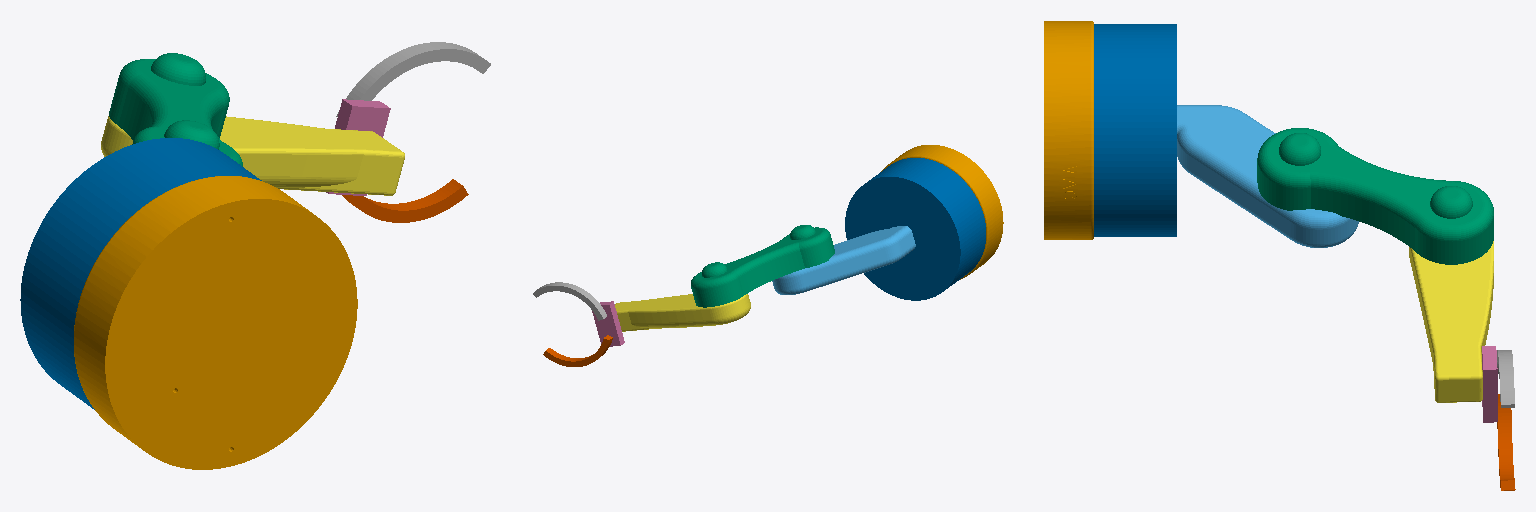
The robot description file, URDF, robot "assemblyrobot":
<?xml version='1.0' encoding='utf-8'?>
<robot name="assemblyrobot">
    <link name="arduino-base">
        <inertial>
            <origin xyz="-5.908176095655564e-05 0.012600108338098034 1.725580498494947e-05" rpy="0.0 0.0 0.0" />
            <mass value="1.7495577812065652" />
            <inertia ixx="0.0039417183917980474" iyy="0.007486009690572093" izz="0.003957126497272616" ixy="4.140320170639071e-07" iyz="1.8222252268676652e-07" ixz="-1.1160722562068011e-06" />
        </inertial>
        <visual name="arduino-base_visual">
            <origin xyz="0.0 0.0 0.0" rpy="0.0 0.0 0.0" />
            <geometry>
                <mesh filename="meshes/arduino-base.stl" scale="0.001 0.001 0.001" />
            </geometry>
        </visual>
        <collision name="arduino-base_collision">
            <origin xyz="0.0 0.0 0.0" rpy="0.0 0.0 0.0" />
            <geometry>
                <mesh filename="meshes/arduino-base.stl" scale="0.001 0.001 0.001" />
            </geometry>
        </collision>
    </link>
    <link name="arm-2">
        <inertial>
            <origin xyz="0.045133587515917305 0.013747053811035208 0.06280542759050099" rpy="0.0 -0.0 0.0" />
            <mass value="1.8987166737101113" />
            <inertia ixx="0.0023033943445161104" iyy="0.0038036079862399375" izz="0.002076290476983168" ixy="-0.0005036707288676463" iyz="-0.0004484869326471805" ixz="-0.0014724481701302115" />
        </inertial>
        <visual name="arm-2_visual">
            <origin xyz="7.490552671322721e-12 1.4882293410580383e-10 -0.10499999999999998" rpy="1.5707963267948937 2.6302735272498705e-15 1.5205098357985822" />
            <geometry>
                <mesh filename="meshes/arm-2.stl" scale="0.001 0.001 0.001" />
            </geometry>
        </visual>
        <collision name="arm-2_collision">
            <origin xyz="7.490552671322721e-12 1.4882293410580383e-10 -0.10499999999999998" rpy="1.5707963267948937 2.6302735272498705e-15 1.5205098357985822" />
            <geometry>
                <mesh filename="meshes/arm-2.stl" scale="0.001 0.001 0.001" />
            </geometry>
        </collision>
    </link>
    <link name="link1">
        <inertial>
            <origin xyz="-0.015062367690629089 -0.05281574228373373 -0.02688632089139279" rpy="-1.6543612251060553e-24 5.551115123125783e-17 -6.617444900424222e-24" />
            <mass value="1.892393536013539" />
            <inertia ixx="0.005713109719530485" iyy="0.0015877411130157991" izz="0.0044531045083366074" ixy="-0.00011387660998000642" iyz="-0.0020553273675931057" ixz="-6.904039229656939e-05" />
        </inertial>
        <visual name="link1_visual">
            <origin xyz="0.04269795795658359 -0.020487590816886902 0.19186157078759858" rpy="-1.76389072849859 0.12238603032276264 0.3397011941680077" />
            <geometry>
                <mesh filename="meshes/link1.stl" scale="0.001 0.001 0.001" />
            </geometry>
        </visual>
        <collision name="link1_collision">
            <origin xyz="0.04269795795658359 -0.020487590816886902 0.19186157078759858" rpy="-1.76389072849859 0.12238603032276264 0.3397011941680077" />
            <geometry>
                <mesh filename="meshes/link1.stl" scale="0.001 0.001 0.001" />
            </geometry>
        </collision>
    </link>
    <link name="link2">
        <inertial>
            <origin xyz="0.01929866194100615 0.0024847349070673277 0.05280460015744328" rpy="0.0 -0.0 -1.5407439555097883e-33" />
            <mass value="1.574222345529243" />
            <inertia ixx="0.004004340198137724" iyy="0.003795991909373817" izz="0.00038965016051672975" ixy="5.034014142131925e-06" iyz="-0.00012512596047734216" ixz="0.00015032647625804938" />
        </inertial>
        <visual name="link2_visual">
            <origin xyz="0.03495575394238399 1.020422111253083e-09 0.0017592814441363203" rpy="-2.5208825026752644 -1.5089653423310556 2.5199772747342872" />
            <geometry>
                <mesh filename="meshes/link2.stl" scale="0.001 0.001 0.001" />
            </geometry>
        </visual>
        <collision name="link2_collision">
            <origin xyz="0.03495575394238399 1.020422111253083e-09 0.0017592814441363203" rpy="-2.5208825026752644 -1.5089653423310556 2.5199772747342872" />
            <geometry>
                <mesh filename="meshes/link2.stl" scale="0.001 0.001 0.001" />
            </geometry>
        </collision>
    </link>
    <link name="Component47">
        <inertial>
            <origin xyz="1.740676331585357e-17 7.11823707445522e-33 0.030000000000000044" rpy="0.0 -0.0 0.0" />
            <mass value="8.323257036604458" />
            <inertia ixx="0.014201557318705767" iyy="0.014201557318706516" izz="0.02340916041544966" ixy="-8.656316956781306e-18" iyz="7.051171440193881e-18" ixz="6.547911532059208e-17" />
        </inertial>
        <visual name="Component47_visual">
            <origin xyz="-2.6645352591003756e-17 0.0 6.217248937900877e-17" rpy="1.570796326794897 -1.7208456881689952e-15 0.0" />
            <geometry>
                <mesh filename="meshes/Component47.stl" scale="0.001 0.001 0.001" />
            </geometry>
        </visual>
        <collision name="Component47_collision">
            <origin xyz="-2.6645352591003756e-17 0.0 6.217248937900877e-17" rpy="1.570796326794897 -1.7208456881689952e-15 0.0" />
            <geometry>
                <mesh filename="meshes/Component47.stl" scale="0.001 0.001 0.001" />
            </geometry>
        </collision>
    </link>
    <link name="GRIP1">
        <inertial>
            <origin xyz="0.03238696951852166 0.026111590297341003 0.011291691799990247" rpy="0.0 -0.0 0.0" />
            <mass value="0.05544632258846031" />
            <inertia ixx="9.111720971360752e-06" iyy="3.388992109230535e-05" izz="4.187004161008024e-05" ixy="-1.3509250468996328e-05" iyz="-7.013677073715826e-07" ixz="-1.461657824731663e-06" />
        </inertial>
        <visual name="GRIP1_visual">
            <origin xyz="0.0027145033433928134 -0.004255325966992168 0.005052093371296564" rpy="1.566880919443248 -0.035778539477757075 0.4046835680667616" />
            <geometry>
                <mesh filename="meshes/GRIP1.stl" scale="0.001 0.001 0.001" />
            </geometry>
        </visual>
        <collision name="GRIP1_collision">
            <origin xyz="0.0027145033433928134 -0.004255325966992168 0.005052093371296564" rpy="1.566880919443248 -0.035778539477757075 0.4046835680667616" />
            <geometry>
                <mesh filename="meshes/GRIP1.stl" scale="0.001 0.001 0.001" />
            </geometry>
        </collision>
    </link>
    <link name="BASE-GRIP">
        <inertial>
            <origin xyz="-0.0009488190672319519 -0.005604729281325778 -0.005003056961475423" rpy="0.0 -0.0 0.0" />
            <mass value="0.09591779614717401" />
            <inertia ixx="1.96043850413212e-05" iyy="7.175899486355081e-06" izz="2.5168438374898787e-05" ixy="-4.171244182649223e-06" iyz="-4.443683396075677e-08" ixz="1.513841088795708e-07" />
        </inertial>
        <visual name="BASE-GRIP_visual">
            <origin xyz="-0.0008028777019686829 -0.0056607973419297245 -3.1738481569050235e-05" rpy="-1.5707963086406642 0.035992051342204255 -0.2956586612370818" />
            <geometry>
                <mesh filename="meshes/BASE-GRIP.stl" scale="0.001 0.001 0.001" />
            </geometry>
        </visual>
        <collision name="BASE-GRIP_collision">
            <origin xyz="-0.0008028777019686829 -0.0056607973419297245 -3.1738481569050235e-05" rpy="-1.5707963086406642 0.035992051342204255 -0.2956586612370818" />
            <geometry>
                <mesh filename="meshes/BASE-GRIP.stl" scale="0.001 0.001 0.001" />
            </geometry>
        </collision>
    </link>
    <link name="GRIP2">
        <inertial>
            <origin xyz="0.03718970221162657 -0.016754633525186843 0.011007389261286492" rpy="0.0 -0.0 0.0" />
            <mass value="0.055446322588460384" />
            <inertia ixx="3.924632716025174e-06" iyy="3.9008431290498205e-05" izz="4.1824079683841324e-05" ixy="5.218844768003791e-06" iyz="2.459571075229653e-07" ixz="-1.469646846665243e-06" />
        </inertial>
        <visual name="GRIP2_visual">
            <origin xyz="0.00012062858434774171 0.00455392877980862 0.01506164950586026" rpy="-1.555777311788317 -0.0327098976440896 -0.1348806473247097" />
            <geometry>
                <mesh filename="meshes/GRIP2.stl" scale="0.001 0.001 0.001" />
            </geometry>
        </visual>
        <collision name="GRIP2_collision">
            <origin xyz="0.00012062858434774171 0.00455392877980862 0.01506164950586026" rpy="-1.555777311788317 -0.0327098976440896 -0.1348806473247097" />
            <geometry>
                <mesh filename="meshes/GRIP2.stl" scale="0.001 0.001 0.001" />
            </geometry>
        </collision>
    </link>
    <joint name="arm-2_Revolute-4" type="continuous">
        <origin xyz="0.07118627 0.00600197 0.08652698999999998" rpy="-1.5707963405551209 -3.817616922987956e-08 1.916741505630135" />
        <parent link="arm-2" />
        <child link="link1" />
        <axis xyz="-0.9987354911119987 -3.881955520057755e-08 0.050265174756219055" />
    </joint>
    <joint name="link1_Revolute-6" type="continuous">
        <origin xyz="-0.01078426676849794 -0.10634598965323648 -0.05512014847774532" rpy="-3.141592639829569 -1.2303490948273323e-08 3.8176169047525154e-08" />
        <parent link="link1" />
        <child link="link2" />
        <axis xyz="0.9987354904935623 -2.6551261189666774e-17 0.05026518704415206" />
    </joint>
    <joint name="arduino-base_Rigid-10" type="fixed">
        <origin xyz="0.0 0.033 0.0" rpy="-1.5707963267948966 -0.0 0.0" />
        <parent link="arduino-base" />
        <child link="Component47" />
    </joint>
    <joint name="Component47_Revolute-11" type="continuous">
        <origin xyz="0.0 0.0 0.06000000000000001" rpy="0.0 -0.0 7.778769097326427e-62" />
        <parent link="Component47" />
        <child link="arm-2" />
        <axis xyz="0.0 0.0 1.0" />
    </joint>
    <joint name="BASE-GRIP_Revolute-12" type="revolute">
        <origin xyz="-0.006509599999999977 -0.020167399999999995 -0.004990610000000011" rpy="3.141592653589793 -5.2041704279304205e-18 0.0" />
        <parent link="BASE-GRIP" />
        <child link="GRIP1" />
        <axis xyz="-0.034423 -0.010484999999999998 0.999352" />
        <limit lower="0.0" upper="0.523599" effort="1000000" velocity="1000000" />
    </joint>
    <joint name="BASE-GRIP_Revolute-13" type="revolute">
        <origin xyz="0.002231500000000004 0.008530920000000003 -0.004990610000000011" rpy="3.141592653589793 -5.2041704279304205e-18 0.0" />
        <parent link="BASE-GRIP" />
        <child link="GRIP2" />
        <axis xyz="-0.034423 -0.010484999999999998 0.999352" />
        <limit lower="-0.523599" upper="0.0" effort="1000000" velocity="1000000" />
    </joint>
    <joint name="link2_Rigid-14" type="fixed">
        <origin xyz="0.00953249805719898 0.02189664999999998 0.1417532664158946" rpy="-1.5707963267948966 -1.2248511356561682 3.141592653589793" />
        <parent link="link2" />
        <child link="BASE-GRIP" />
    </joint>
</robot>

--- Facts derived from the render (not from the file) ---
3 views of the same robot in one strip: view 1: azimuth 30°, elevation 25°; view 2: azimuth 150°, elevation 25°; view 3: azimuth 270°, elevation 25° (orthographic).
Robot: assemblyrobot — 8 links, 7 joints (2 revolute, 3 continuous, 2 fixed); root link arduino-base; default pose: all joints at 0.
Links seen in each view (by area): view 1: arduino-base, Component47, link2, link1, GRIP2, GRIP1, BASE-GRIP; view 2: Component47, link1, arm-2, link2, arduino-base, BASE-GRIP, GRIP2, GRIP1; view 3: Component47, link1, arduino-base, arm-2, link2, GRIP1, BASE-GRIP, GRIP2.
Boxes of the visible links, x1,y1,x2,y2 form: arduino-base: (74,176,357,469); Component47: (20,138,261,409); link2: (101,116,404,195); link1: (109,53,242,166); GRIP2: (336,42,490,116); GRIP1: (342,179,468,222); BASE-GRIP: (326,99,390,195); Component47: (845,158,985,300); link1: (691,225,834,307); arm-2: (772,226,915,294); link2: (615,294,750,331); arduino-base: (881,145,1003,279); BASE-GRIP: (592,301,624,346); GRIP2: (533,282,606,320); GRIP1: (543,335,612,366); Component47: (1094,24,1176,236); link1: (1257,128,1493,264); arduino-base: (1044,21,1093,239); arm-2: (1177,105,1358,247); link2: (1409,241,1493,402); GRIP1: (1497,394,1515,490); BASE-GRIP: (1482,346,1497,422); GRIP2: (1497,350,1514,407).
Bounding box of the posed robot: 0.4208 × 0.3309 × 0.2098 m (x, y, z).
8 mesh visuals loaded from 8 distinct referenced files (8 binary STL).